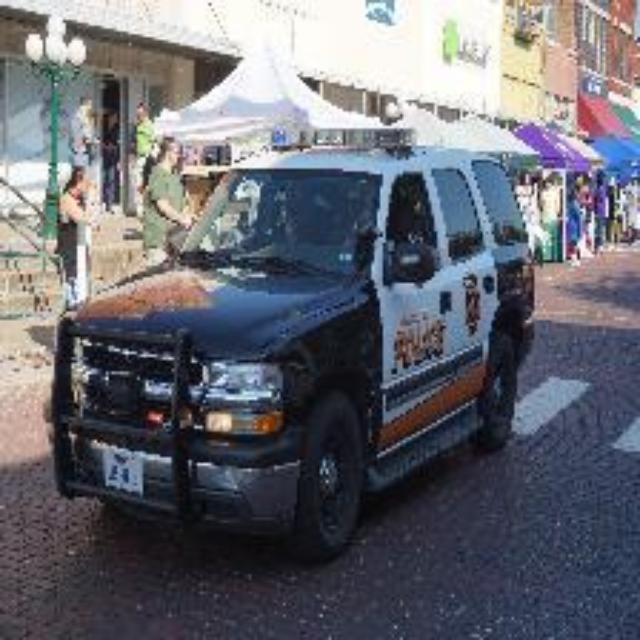emergency: (68, 133, 542, 542)
